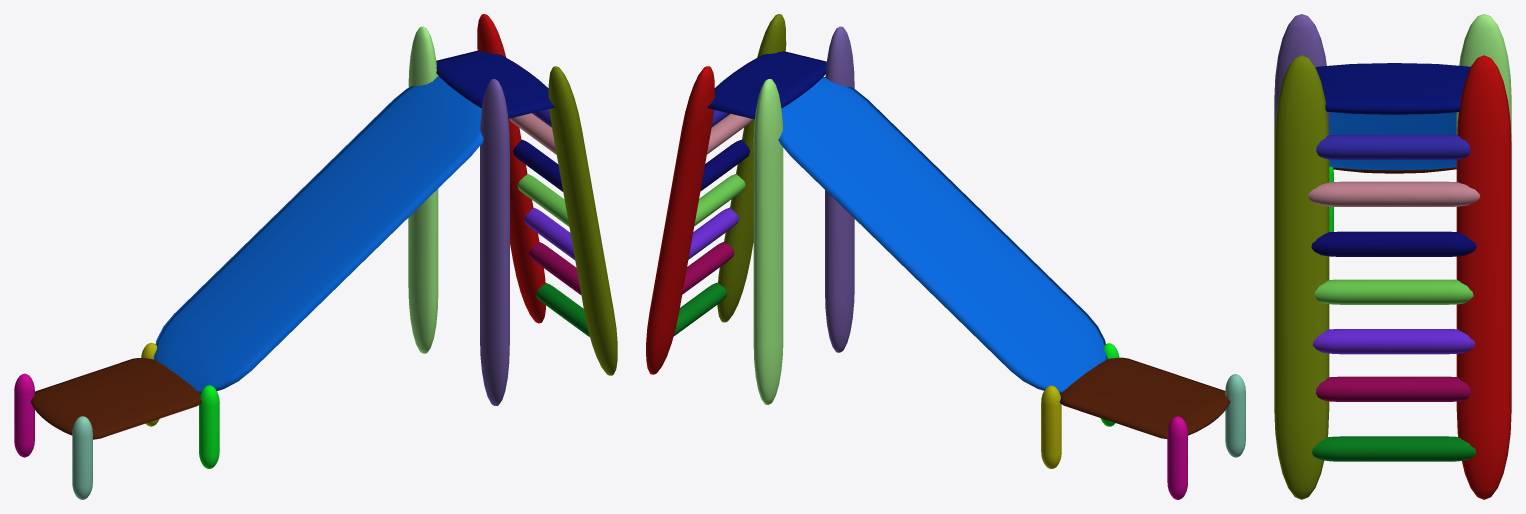
The model's file is Slide(1).fbx.
The picture shows the model from 3 angles, left to right: view 1: azimuth 30°, elevation 25°; view 2: azimuth 150°, elevation 25°; view 3: azimuth 270°, elevation 25°; orthographic projection. The views are drawn at different scales.
Visible parts, largest first — view 1: Capsule027; view 2: Capsule027; view 3: Capsule027.
Part boxes in pixels (x1,y1,x2,y2): Capsule027: (14,14,617,499); Capsule027: (646,14,1245,499); Capsule027: (1274,14,1511,499).
Size of the model in its own units: 201 by 118 by 60.66.
